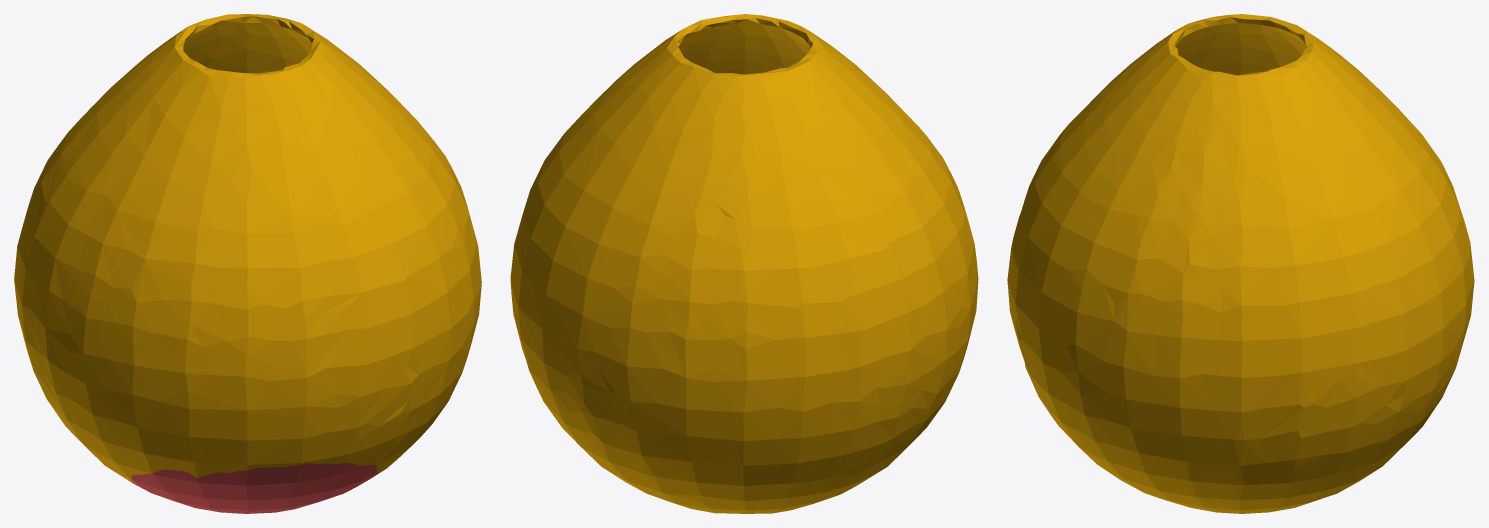
File: fractured_11_2pcs.glb
3 renders of one model, left to right at view 1: azimuth 30°, elevation 25°; view 2: azimuth 150°, elevation 25°; view 3: azimuth 270°, elevation 25°, orthographic.
Parts seen in each view (by area): view 1: piece_0.obj, piece_1.obj; view 2: piece_0.obj; view 3: piece_0.obj.
Part boxes in pixels (box(x1,y1,x2,y2)): piece_0.obj: box(14, 14, 481, 484); piece_1.obj: box(129, 463, 378, 513); piece_0.obj: box(510, 14, 978, 513); piece_0.obj: box(1007, 14, 1474, 513).
Bounding box in the file's own units: 0.9657 × 1 × 0.9658.
